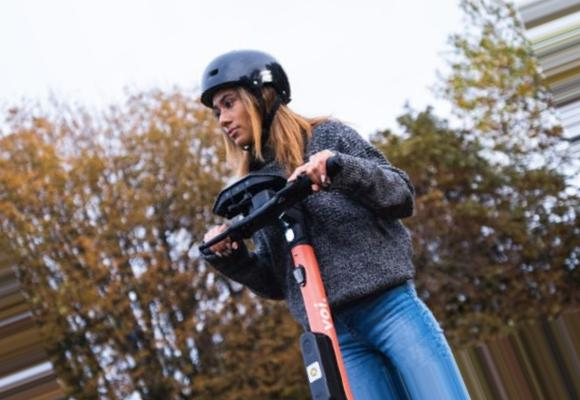with helmet: (199, 48, 293, 150)
